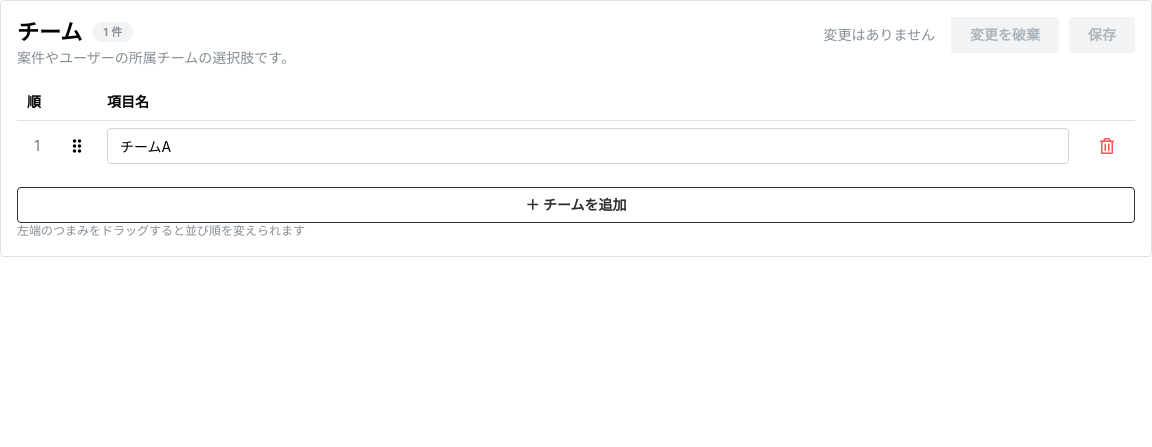
optionRowsToSave › 編集パネルの表示（Issue #197） › 未入力で保存しようとすると、Alert と該当の入力欄の両方にエラーを表示する
The image size is (1152, 447).
Click the button "＋ チームを追加" at (576, 205), box [17,187,1135,223]
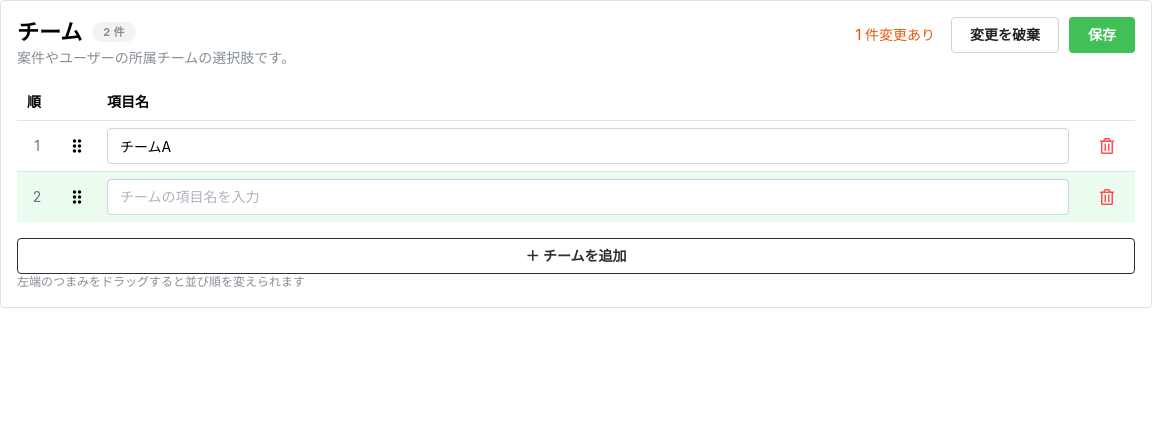
Click the button "保存" at (1102, 35), box [1069,17,1135,53]
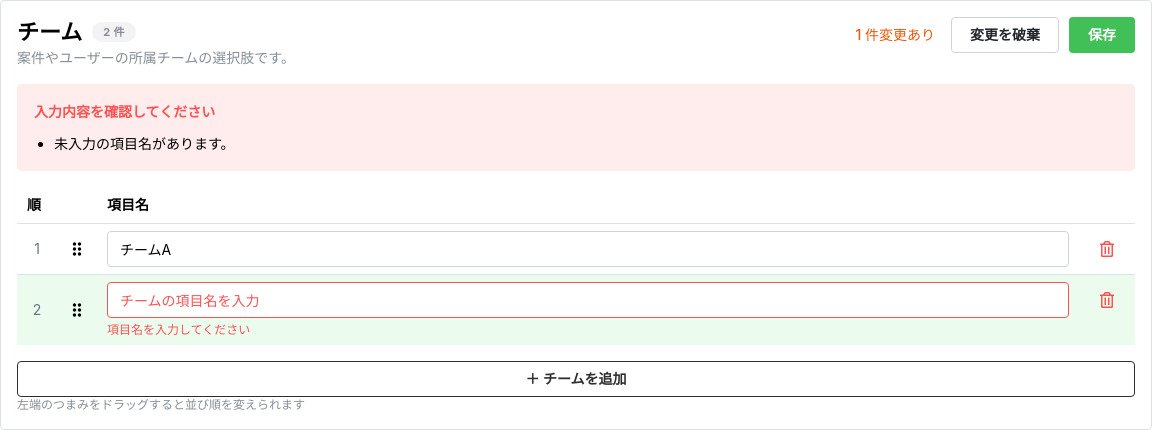
Expected: the text "入力内容を確認してください" is shown, [34,101,215,123]
Expected: the text "項目名を入力してください" is shown, [107,322,250,337]
